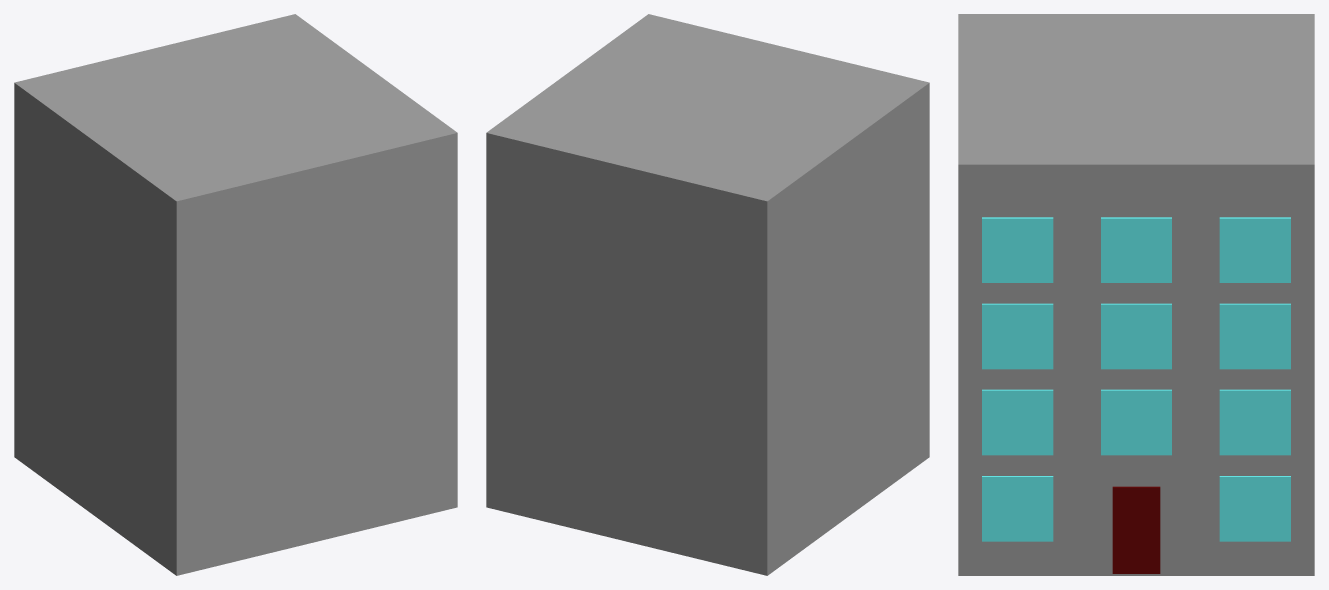
The model's file is building1.obj.
The picture shows the model from 3 angles, left to right: view 1: azimuth 30°, elevation 25°; view 2: azimuth 150°, elevation 25°; view 3: azimuth 270°, elevation 25°; orthographic projection. The views are drawn at different scales.
Visible parts, largest first — view 1: Mesh1 Mesh1_Mesh1_Mesh2_cube01_1_skpB8_1_Model_Model_Model Model; view 2: Mesh1 Mesh1_Mesh1_Mesh2_cube01_1_skpB8_1_Model_Model_Model Model; view 3: Mesh1 Mesh1_Mesh1_Mesh2_cube01_1_skpB8_1_Model_Model_Model Model, Mesh6 Mesh6_Mesh6_Mesh7_cube06_1_skpB8_1_Model_Model_Model Model, Mesh7 Mesh7_Mesh7_Mesh8_cube07_1_skpB8_1_Model_Model_Model Model, Mesh10 Mesh10_Mesh10_Mesh11_cube10_1_skpB8_1_Model_Model_Model M, Mesh11 Mesh11_Mesh11_Mesh12_cube11_1_skpB8_1_Model_Model_Model M, Mesh8 Mesh8_Mesh8_Mesh9_cube08_1_skpB8_1_Model_Model_Model Model, Mesh9 Mesh9_Mesh9_Mesh10_cube09_1_skpB8_1_Model_Model_Model Mode, Mesh3 Mesh3_Mesh3_Mesh4_cube03_1_skpB8_1_Model_Model_Model Model, Mesh4 Mesh4_Mesh4_Mesh5_cube04_1_skpB8_1_Model_Model_Model Model, Mesh5 Mesh5_Mesh5_Mesh6_cube05_1_skpB8_1_Model_Model_Model Model, Mesh12 Mesh12_Mesh12_Mesh13_cube12_1_skpB8_1_Model_Model_Model M, Mesh2 Mesh2_Mesh2_Mesh3_cube02_1_skpB8_1_Model_Model_Model Model (+1 smaller).
Part boxes in pixels (x1,y1,x2,y2): Mesh1 Mesh1_Mesh1_Mesh2_cube01_1_skpB8_1_Model_Model_Model Model: [14, 14, 457, 575]; Mesh1 Mesh1_Mesh1_Mesh2_cube01_1_skpB8_1_Model_Model_Model Model: [486, 14, 929, 575]; Mesh1 Mesh1_Mesh1_Mesh2_cube01_1_skpB8_1_Model_Model_Model Model: [958, 14, 1314, 575]; Mesh6 Mesh6_Mesh6_Mesh7_cube06_1_skpB8_1_Model_Model_Model Model: [982, 303, 1053, 369]; Mesh7 Mesh7_Mesh7_Mesh8_cube07_1_skpB8_1_Model_Model_Model Model: [1219, 303, 1290, 369]; Mesh10 Mesh10_Mesh10_Mesh11_cube10_1_skpB8_1_Model_Model_Model M: [1219, 389, 1290, 455]; Mesh11 Mesh11_Mesh11_Mesh12_cube11_1_skpB8_1_Model_Model_Model M: [982, 389, 1053, 455]; Mesh8 Mesh8_Mesh8_Mesh9_cube08_1_skpB8_1_Model_Model_Model Model: [1101, 303, 1171, 369]; Mesh9 Mesh9_Mesh9_Mesh10_cube09_1_skpB8_1_Model_Model_Model Mode: [1101, 389, 1171, 455]; Mesh3 Mesh3_Mesh3_Mesh4_cube03_1_skpB8_1_Model_Model_Model Model: [1219, 217, 1290, 282]; Mesh4 Mesh4_Mesh4_Mesh5_cube04_1_skpB8_1_Model_Model_Model Model: [1219, 476, 1290, 541]; Mesh5 Mesh5_Mesh5_Mesh6_cube05_1_skpB8_1_Model_Model_Model Model: [982, 217, 1053, 282]; Mesh12 Mesh12_Mesh12_Mesh13_cube12_1_skpB8_1_Model_Model_Model M: [982, 476, 1053, 541]; Mesh2 Mesh2_Mesh2_Mesh3_cube02_1_skpB8_1_Model_Model_Model Model: [1101, 217, 1171, 282].
Bounding box in the file's own units: 12.12 × 15.32 × 12.04.
